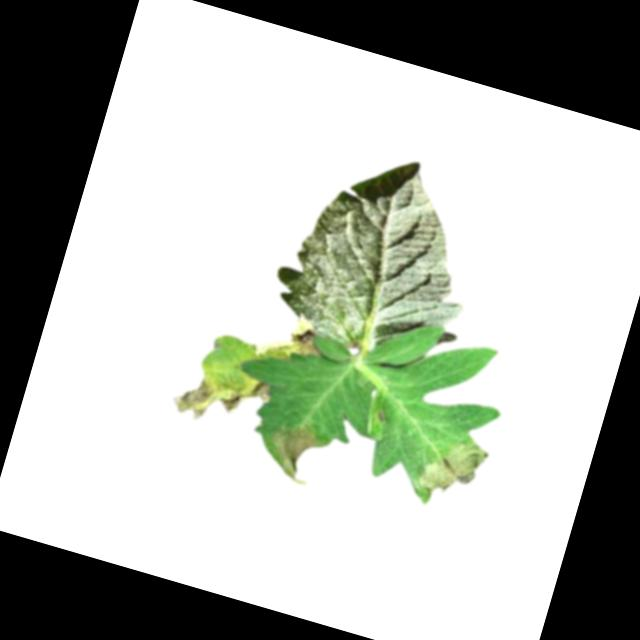Late_blight: (409, 427, 492, 506), (251, 307, 331, 373), (259, 416, 325, 487), (164, 366, 219, 426), (216, 384, 246, 416), (248, 377, 275, 403)
healthy: (263, 133, 500, 376)
